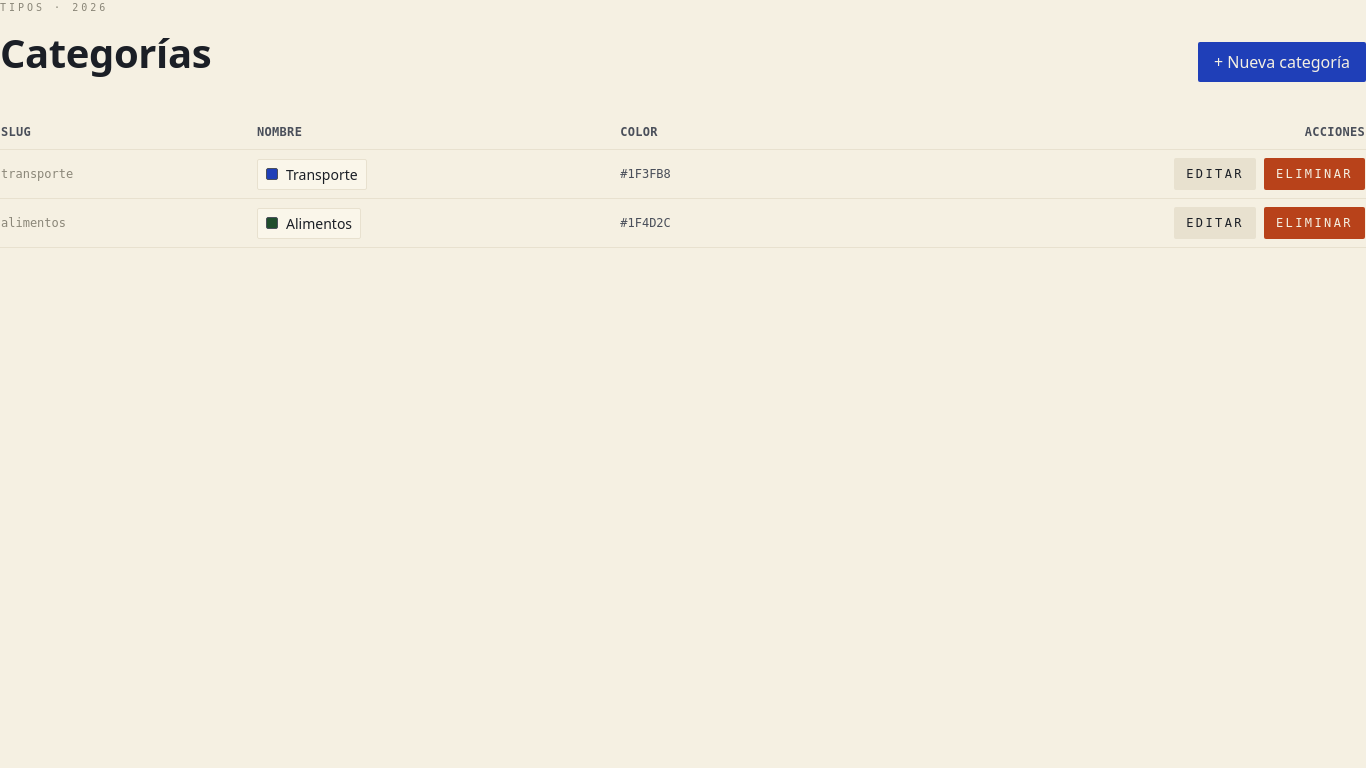
CategoriesAdminPage — full CRUD with modals › submitting a valid edit PATCHes the category and closes the modal
This screenshot has width=1366, height=768.
Expected: the text "Transporte" is shown, [286,164,358,184]
Click the button "Editar" in the row of "#1F3FB8": (1215,174) [1174,158,1256,190]
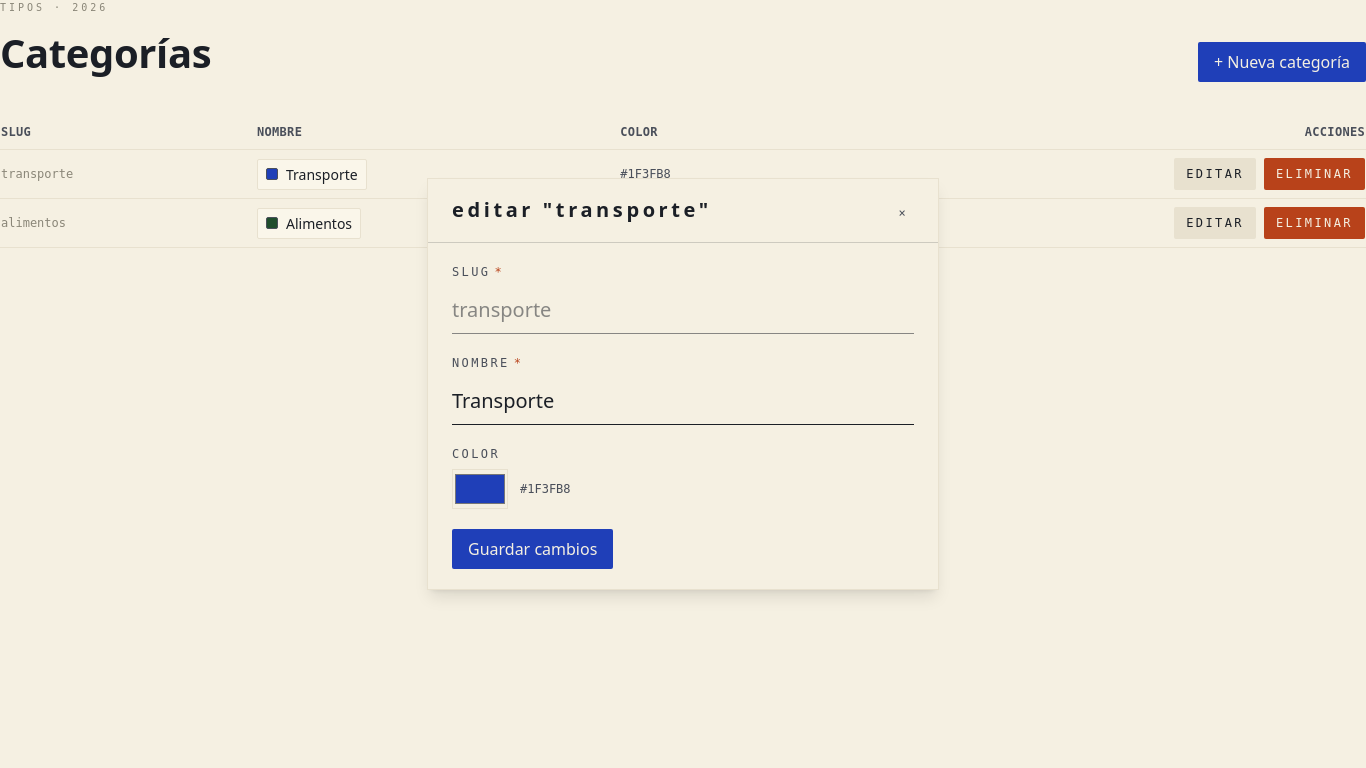
In the field labelled "Nombre*": (683,402) [452,378,914,425], type "Transporte público"
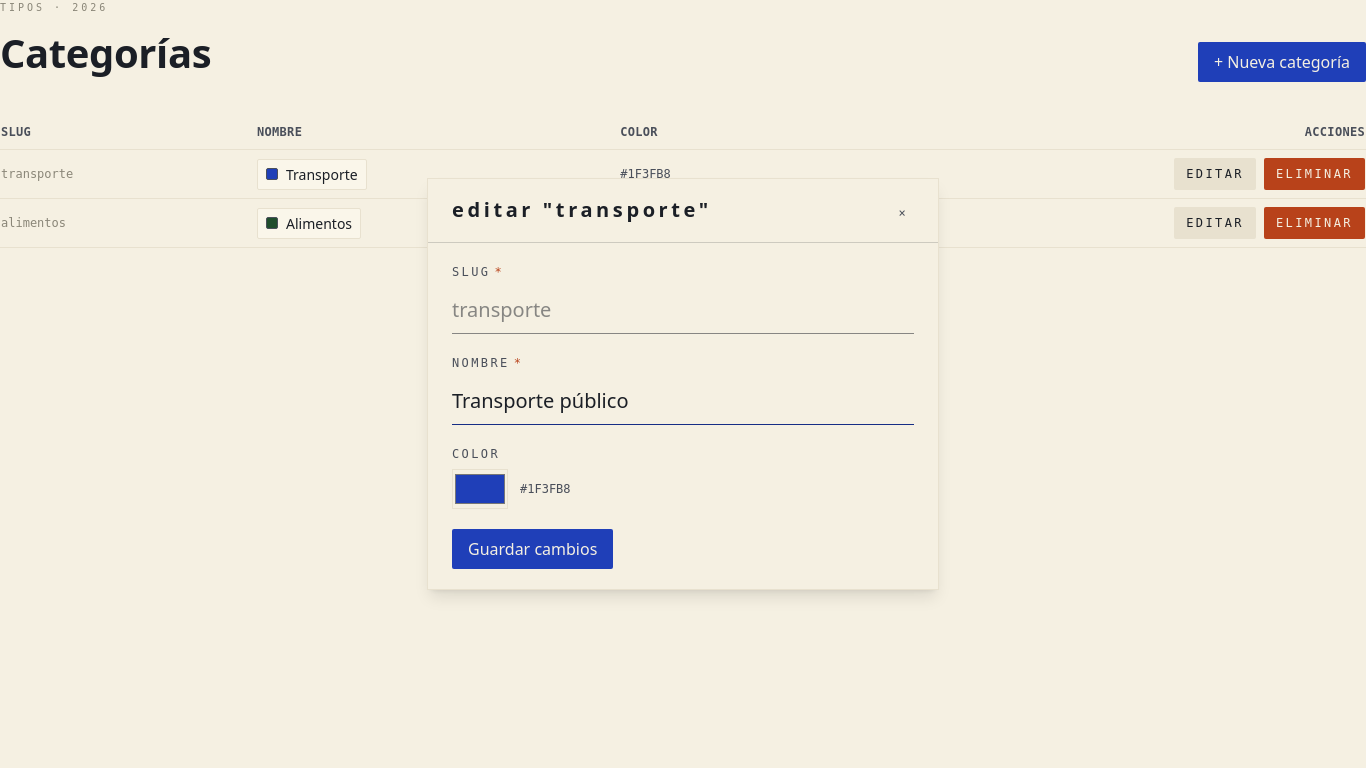
Click the button "Guardar cambios": (533,549) [452,529,613,569]
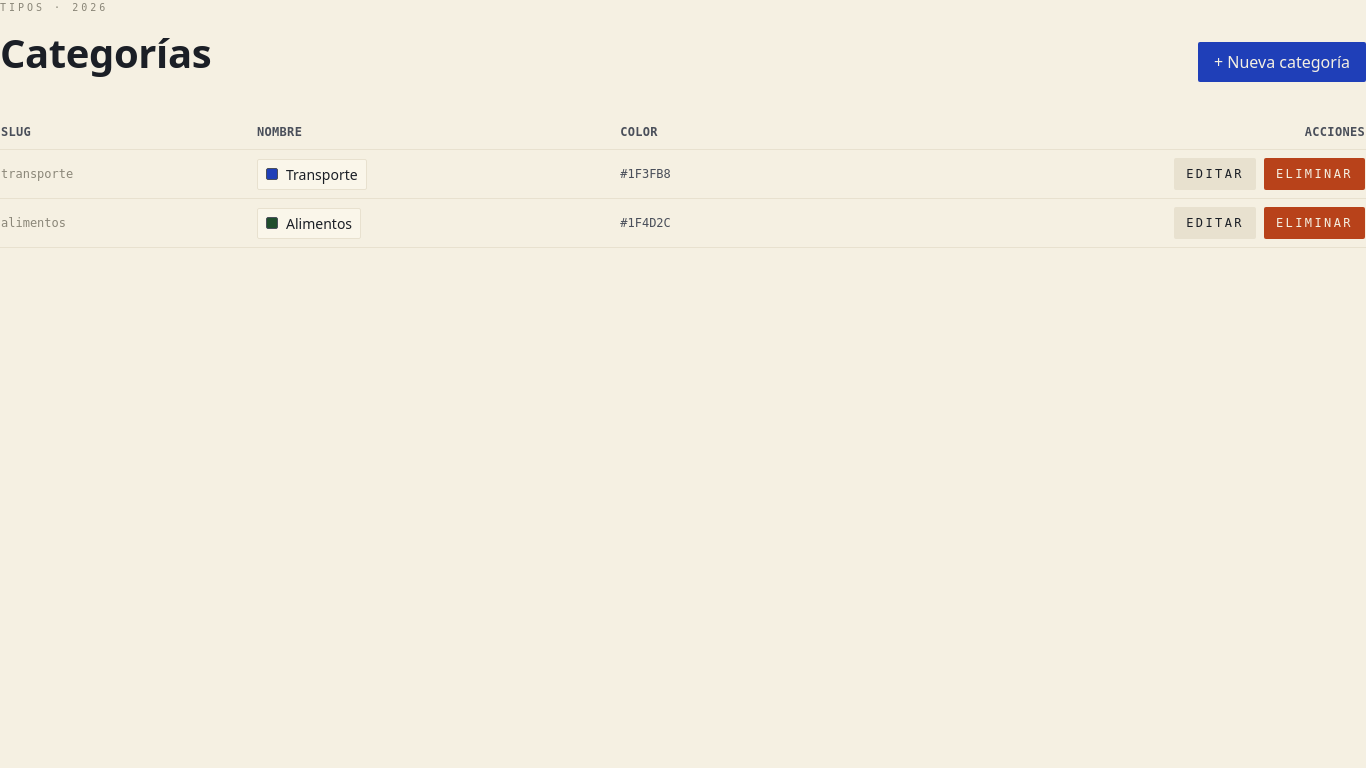
Result: the dialog is gone
